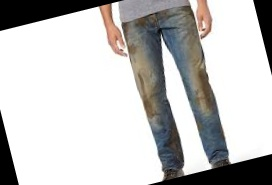earth: (195, 69, 218, 110), (136, 74, 155, 118), (167, 122, 186, 162), (122, 24, 135, 54), (137, 18, 147, 28)
